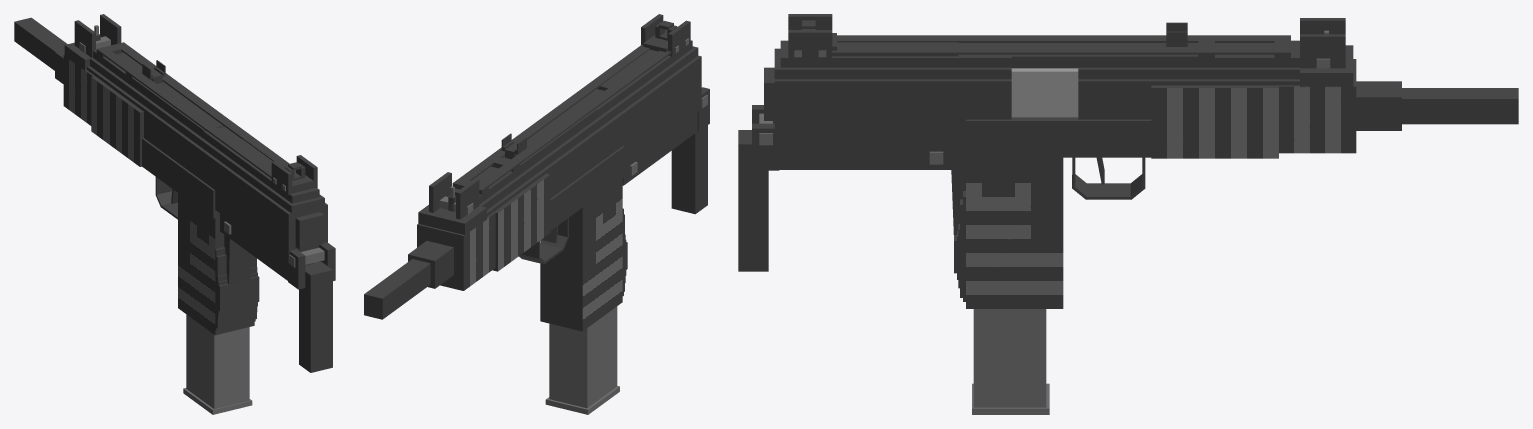
File: uzi-imi.glb
3 views of the same model, side by side, from view 1: azimuth 30°, elevation 25°; view 2: azimuth 150°, elevation 25°; view 3: azimuth 270°, elevation 25° (orthographic). The views are drawn at different scales.
Parts seen in each view (by area): view 1: Material_0-material (×36); view 2: Material_0-material (×31); view 3: Material_0-material (×30).
Boxes of the visible parts, x1,y1,x2,y2 form: Material_0-material (×36): (14, 14, 335, 414); Material_0-material (×31): (364, 14, 709, 414); Material_0-material (×30): (738, 18, 1518, 414).
Size of the model in its own units: 0.2938 by 1.72 by 3.21.
Materials: 1 (1 with a texture image).
